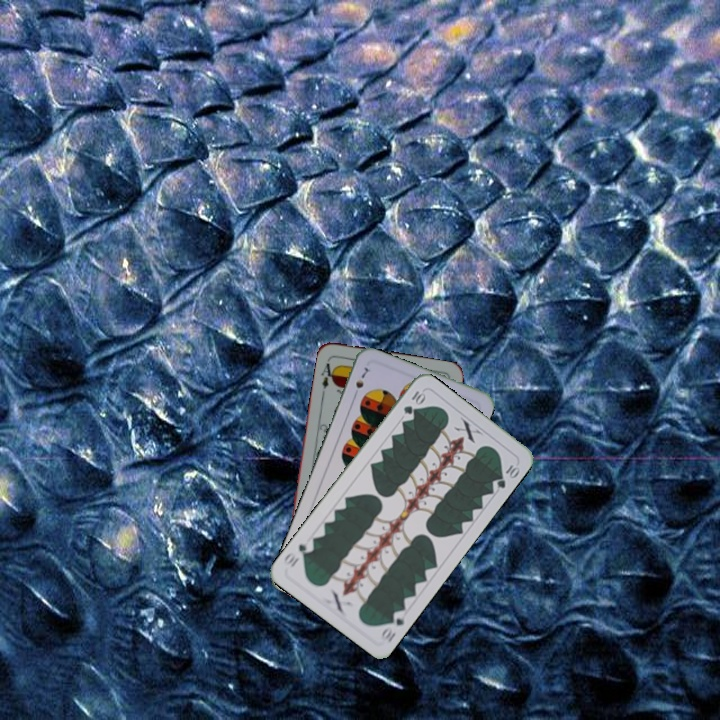EA: (317, 359, 338, 391)
G10: (376, 606, 409, 645), (399, 387, 428, 417)
S7: (349, 363, 371, 400)
